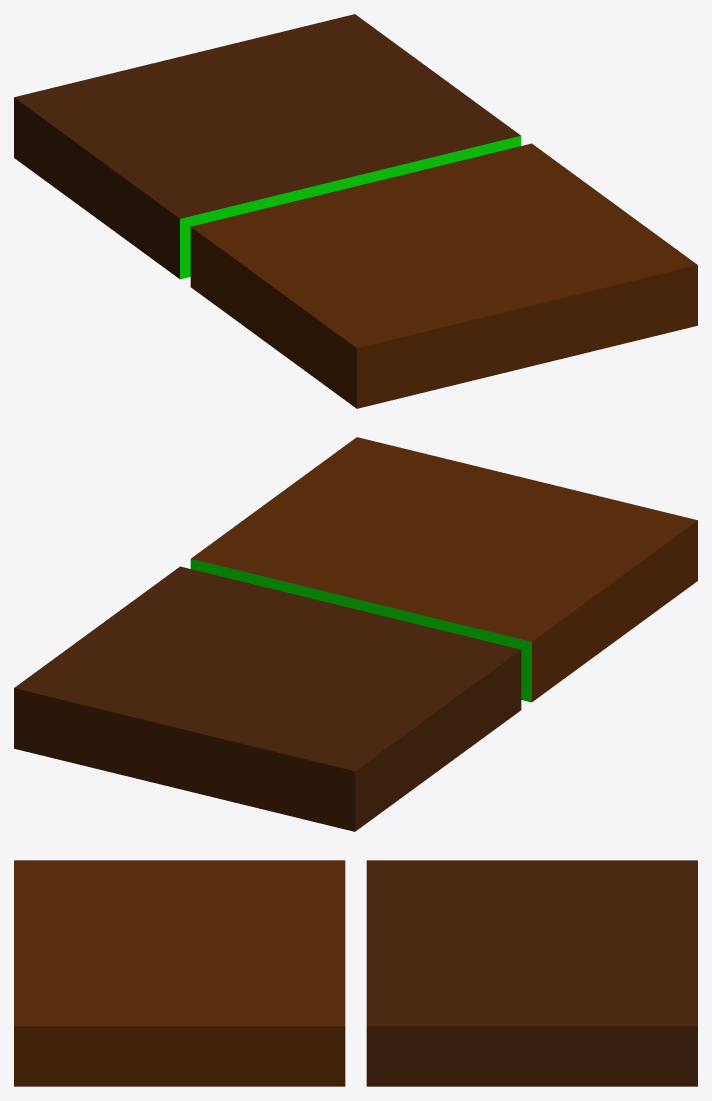
Rendered from kes3.fbx.
3 renders of one model, top to bottom at view 1: azimuth 30°, elevation 25°; view 2: azimuth 150°, elevation 25°; view 3: azimuth 270°, elevation 25°, orthographic.
Parts seen in each view (by area): view 1: Cube.009, Cube.010; view 2: Cube.010, Cube.009; view 3: Cube.009, Cube.010.
Boxes of the visible parts, left/top/right/bottom form: Cube.009: left=190, top=143, right=697, bottom=408; Cube.010: left=14, top=14, right=521, bottom=279; Cube.010: left=14, top=566, right=521, bottom=831; Cube.009: left=190, top=437, right=697, bottom=702; Cube.009: left=14, top=860, right=345, bottom=1086; Cube.010: left=366, top=860, right=697, bottom=1086.
Bounding box in the file's own units: 200 × 33.96 × 348.
